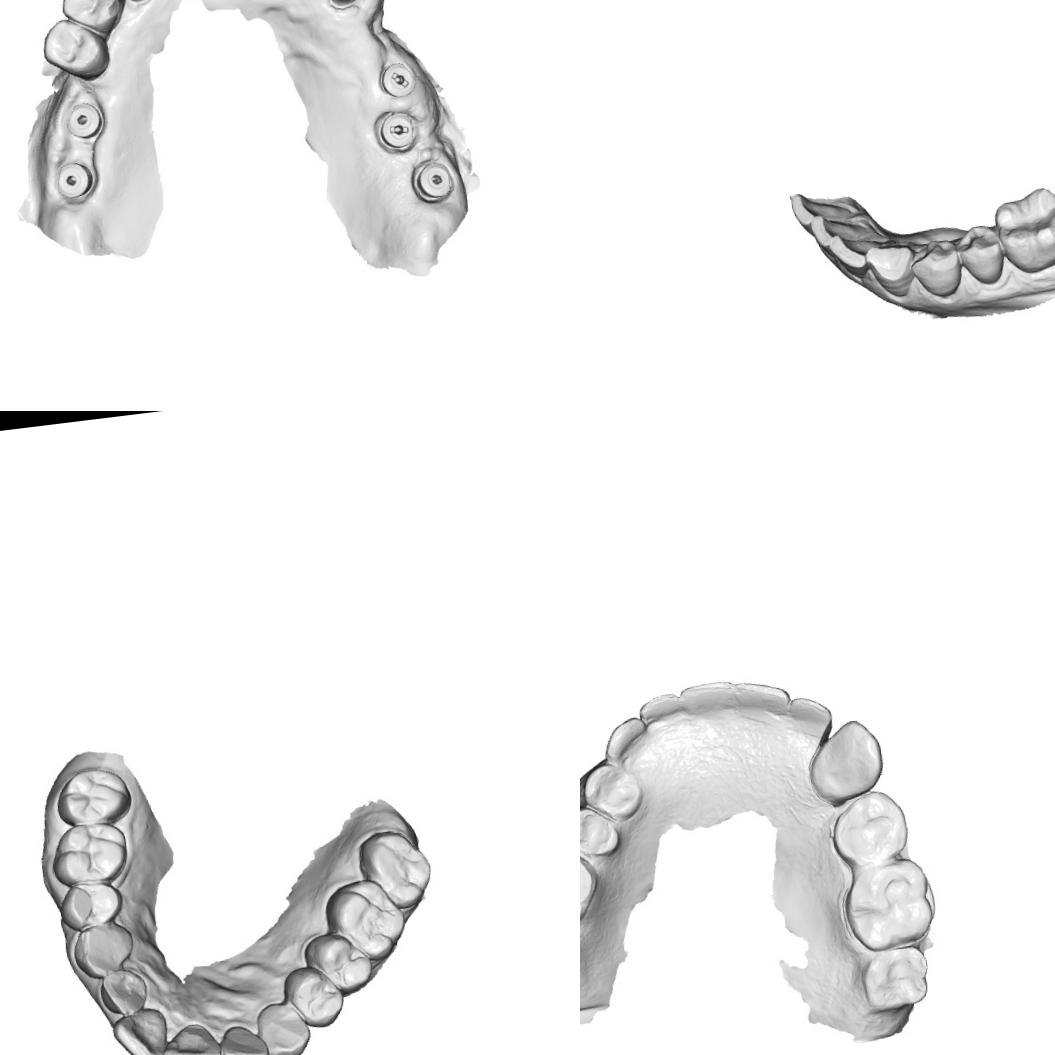canine: (801, 716, 890, 805), (68, 919, 138, 984), (862, 238, 922, 302), (253, 997, 315, 1055), (598, 714, 654, 764)
implant: (410, 155, 456, 205), (52, 156, 99, 202), (62, 98, 106, 142)
implant_minus: (374, 105, 422, 154), (376, 58, 420, 102)
incisor: (108, 1004, 172, 1055), (94, 964, 152, 1020), (825, 228, 883, 282), (788, 186, 854, 228), (674, 679, 736, 722), (789, 690, 836, 746), (732, 676, 786, 724), (156, 1019, 225, 1055), (636, 690, 684, 738), (215, 1020, 271, 1055), (808, 211, 848, 252)
molar: (836, 856, 940, 954), (320, 873, 410, 966), (351, 823, 436, 914), (990, 182, 1055, 278), (47, 818, 132, 890), (854, 941, 932, 1014), (52, 763, 134, 830), (580, 840, 601, 929)
premolar: (826, 787, 919, 870), (299, 926, 376, 1002), (37, 12, 112, 86), (280, 960, 350, 1032), (54, 875, 128, 935), (580, 756, 641, 822), (906, 234, 964, 302), (952, 221, 1008, 289), (580, 798, 623, 865), (56, 0, 128, 36)
